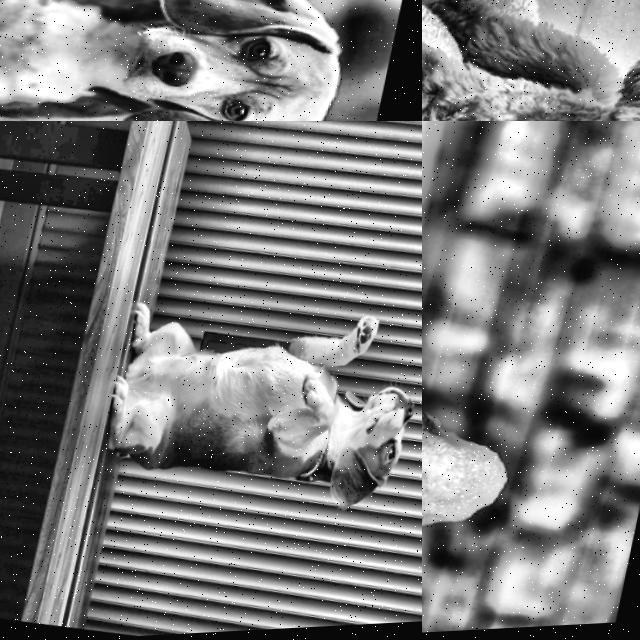beagle: (422, 279, 551, 640), (53, 0, 385, 121), (298, 354, 422, 526)
poodle: (492, 0, 640, 121)
